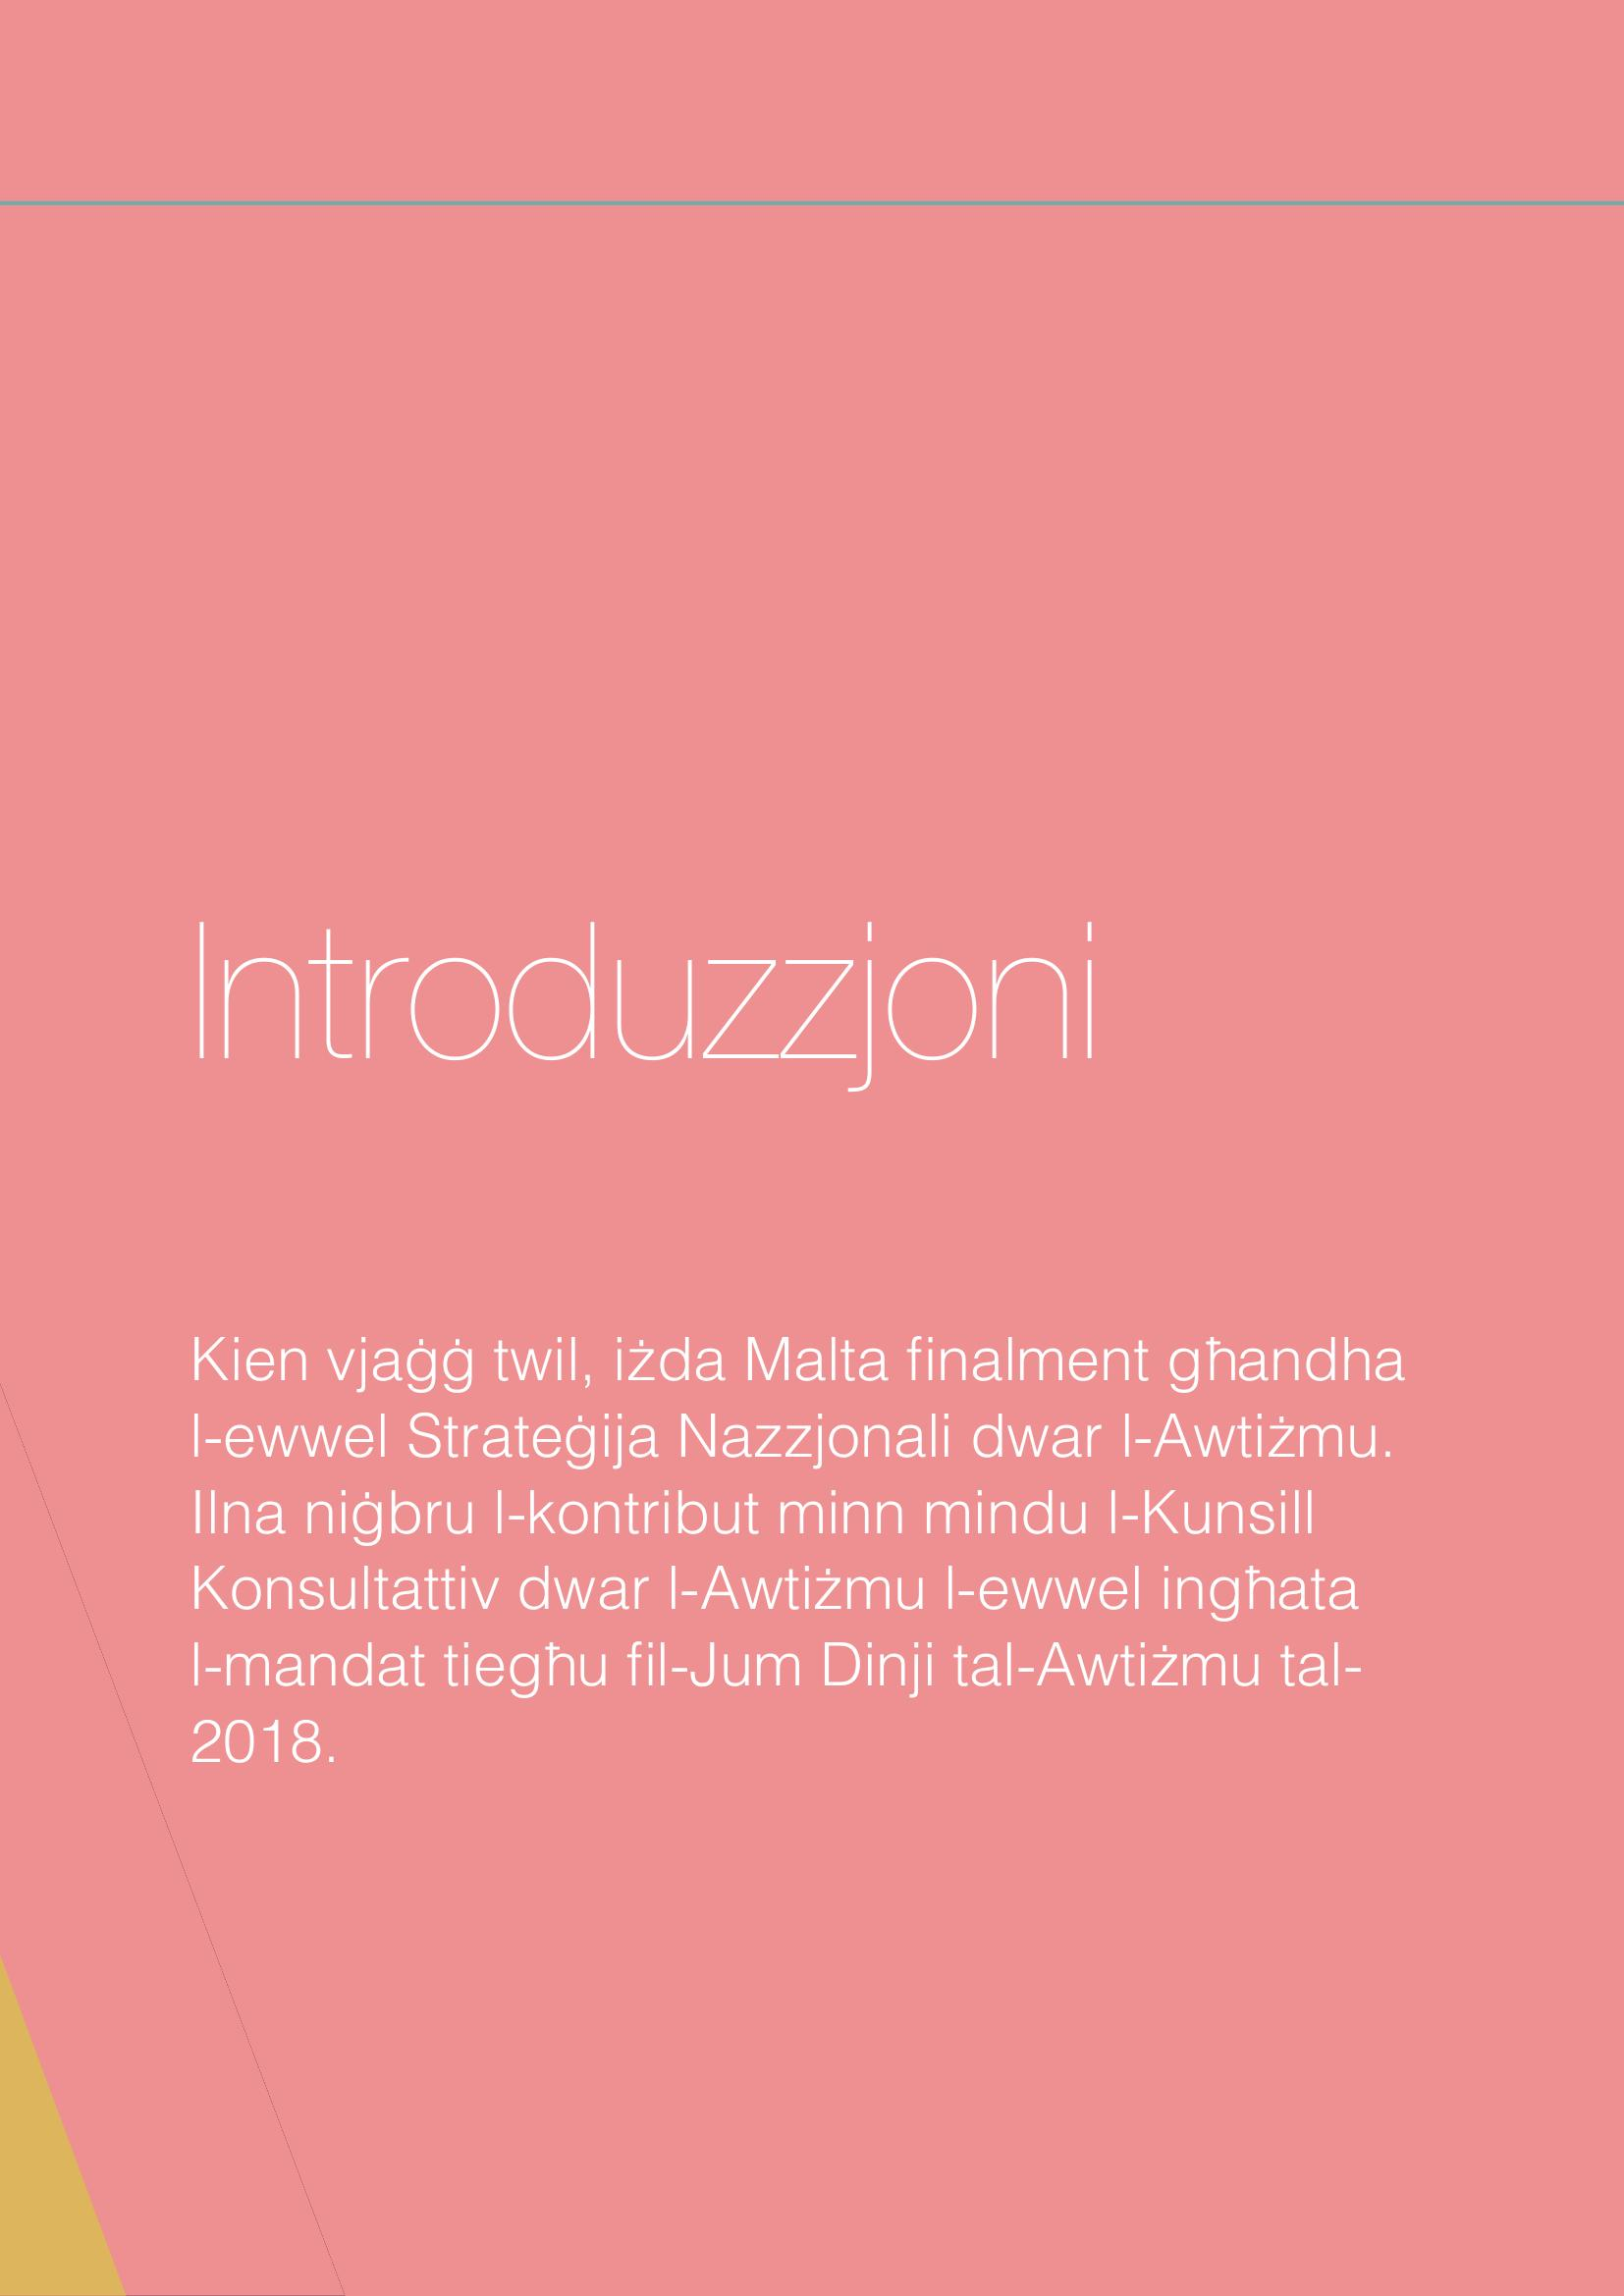text: (169, 880, 1417, 1792)
